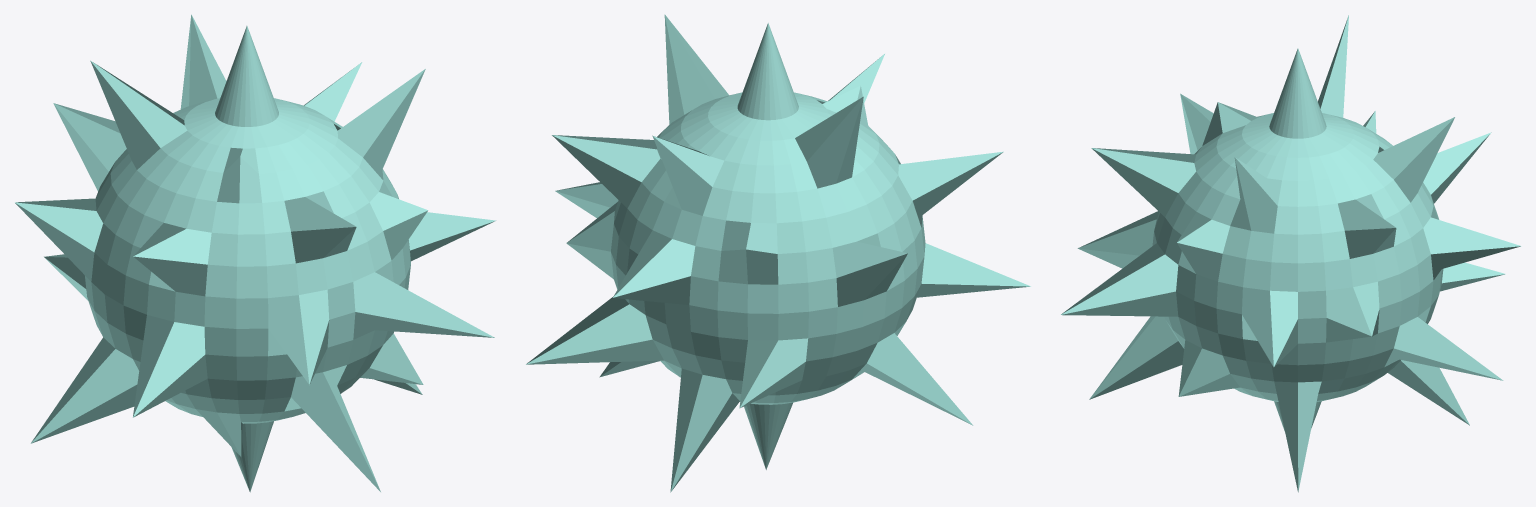
Rendered from comet.fbx.
3 renders of one model, left to right at view 1: azimuth 30°, elevation 25°; view 2: azimuth 150°, elevation 25°; view 3: azimuth 270°, elevation 25°, orthographic. The views are drawn at different scales.
Visible parts, largest first — view 1: Sphere; view 2: Sphere; view 3: Sphere.
Part boxes in pixels (<box>): Sphere: <box>15,14,495,492</box>; Sphere: <box>526,14,1030,492</box>; Sphere: <box>1061,15,1521,492</box>.
Bounding box in the file's own units: 317 × 314 × 315.
